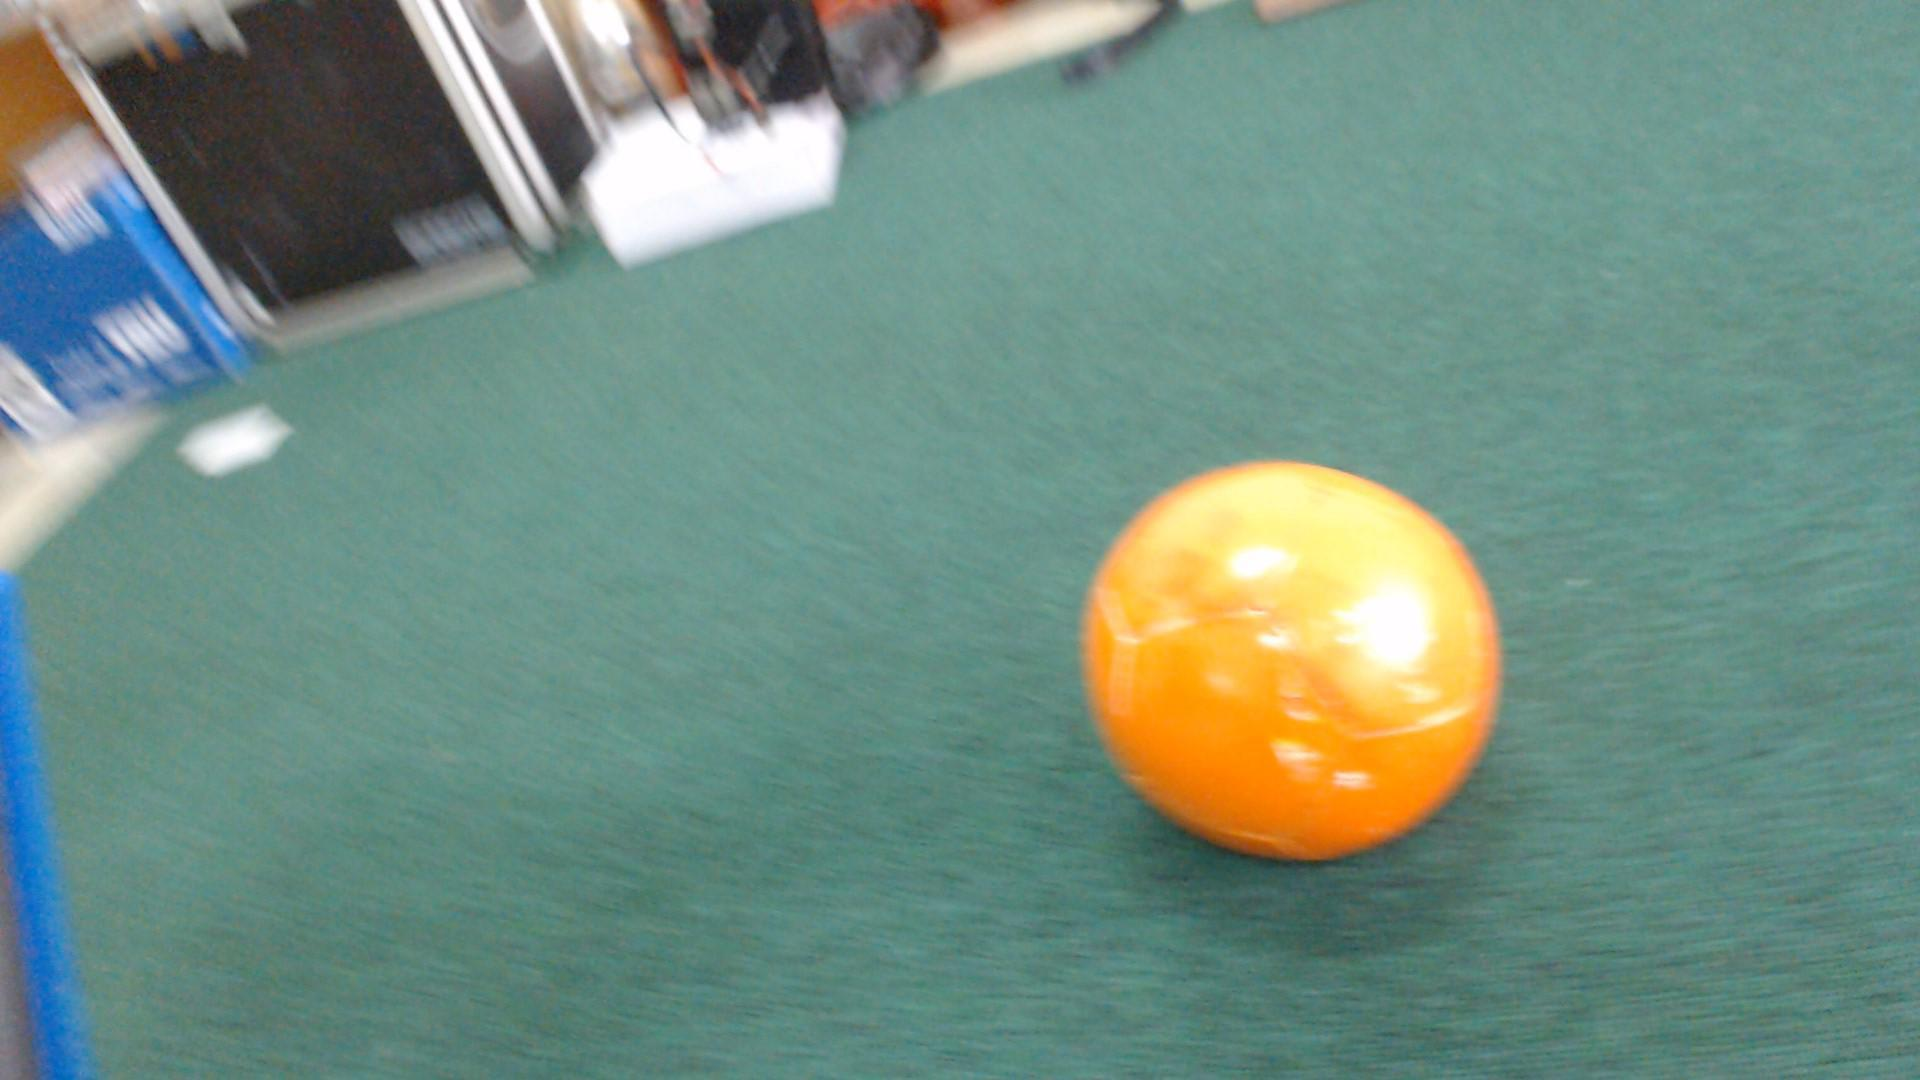bola: (1008, 426, 1532, 897)
